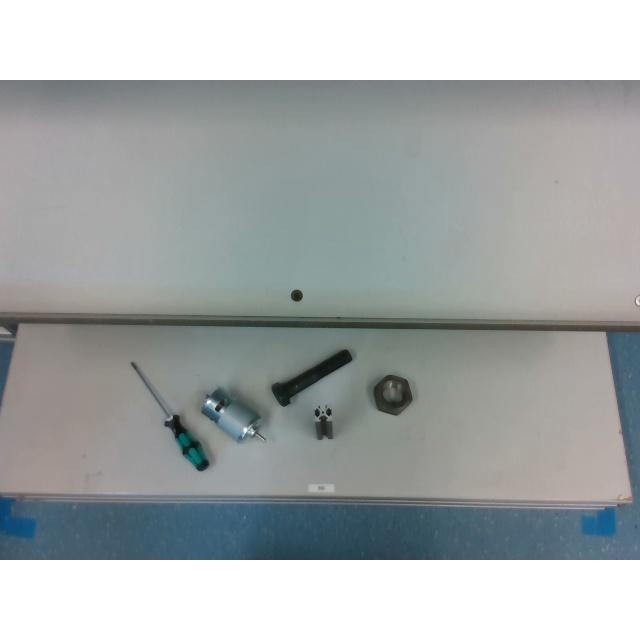F20_20_B: (314, 405, 332, 439)
M20_100: (271, 349, 353, 406)
M30: (374, 374, 412, 414)
Motor2: (201, 388, 263, 442)
Screwdriver: (130, 362, 208, 470)
